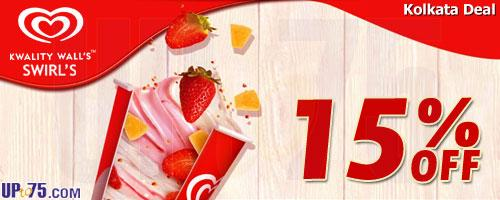Kwality_Walls: (13, 4, 88, 48)
